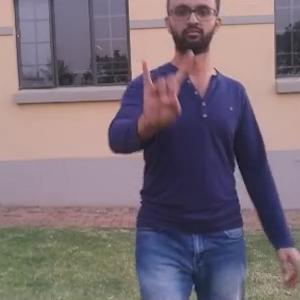takeoff-hand: (135, 49, 197, 137)
